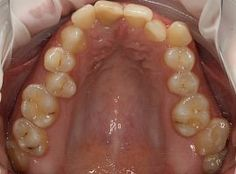UL1BC_healthy: (165, 49, 195, 72)
UL1M_decay: (172, 94, 210, 136)
UL2BC_decay: (167, 71, 199, 96)
UL2M_decay: (195, 132, 236, 173)
ULCI_healthy: (125, 5, 152, 31)
ULC_healthy: (162, 24, 190, 47)
ULLI_healthy: (143, 21, 165, 42)
UR1BC_decay: (43, 47, 75, 73)
UR1M_decay: (22, 85, 57, 126)
UR2BC_decay: (45, 70, 73, 99)
UR2M_decay: (12, 116, 50, 157)
URCI_healthy: (96, 3, 123, 27)
URC_healthy: (61, 27, 87, 53)
URLI_healthy: (72, 5, 98, 31)
